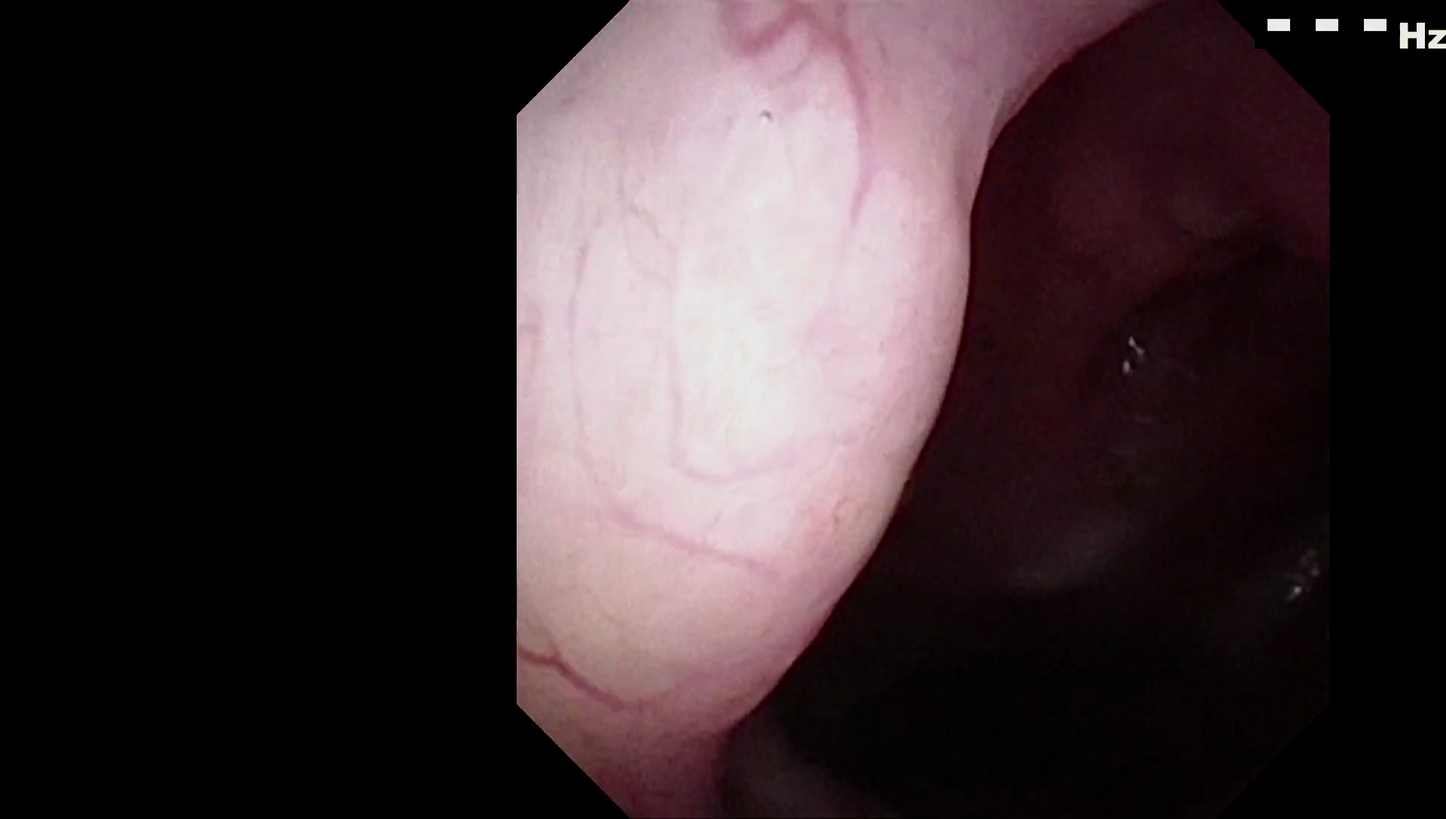close_wall: (530, 121, 992, 708)
next: (754, 507, 1291, 814)
